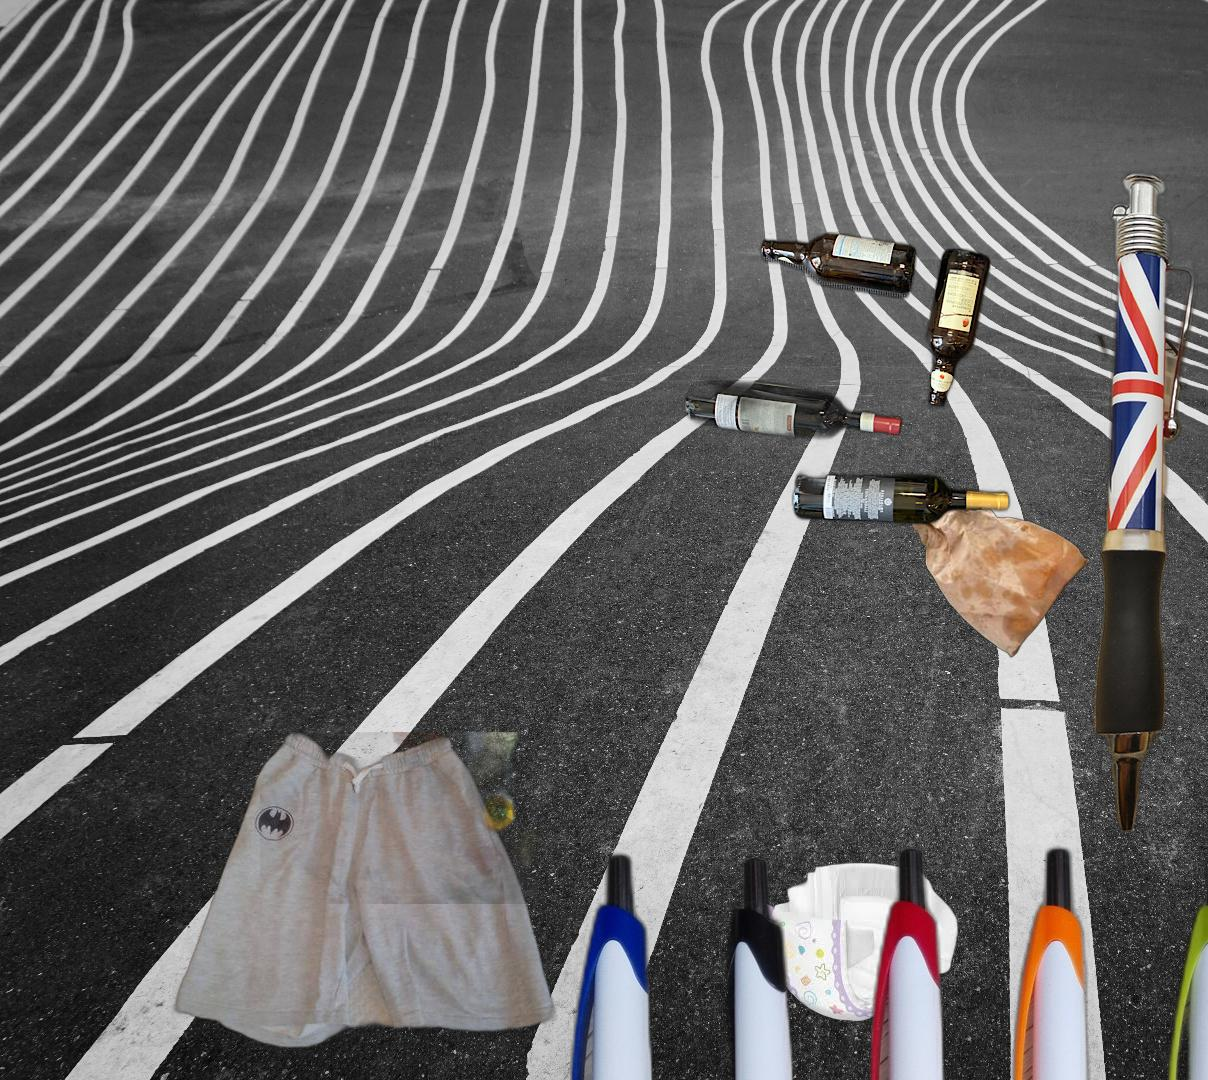biological: (260, 732, 553, 904)
clothes: (170, 727, 561, 1052)
glass: (681, 227, 1014, 531), (1087, 498, 1208, 1080)
paper-bag: (890, 473, 1093, 660)
penholder: (561, 839, 1208, 1080), (1087, 82, 1208, 840)
trash: (755, 860, 976, 1024)
